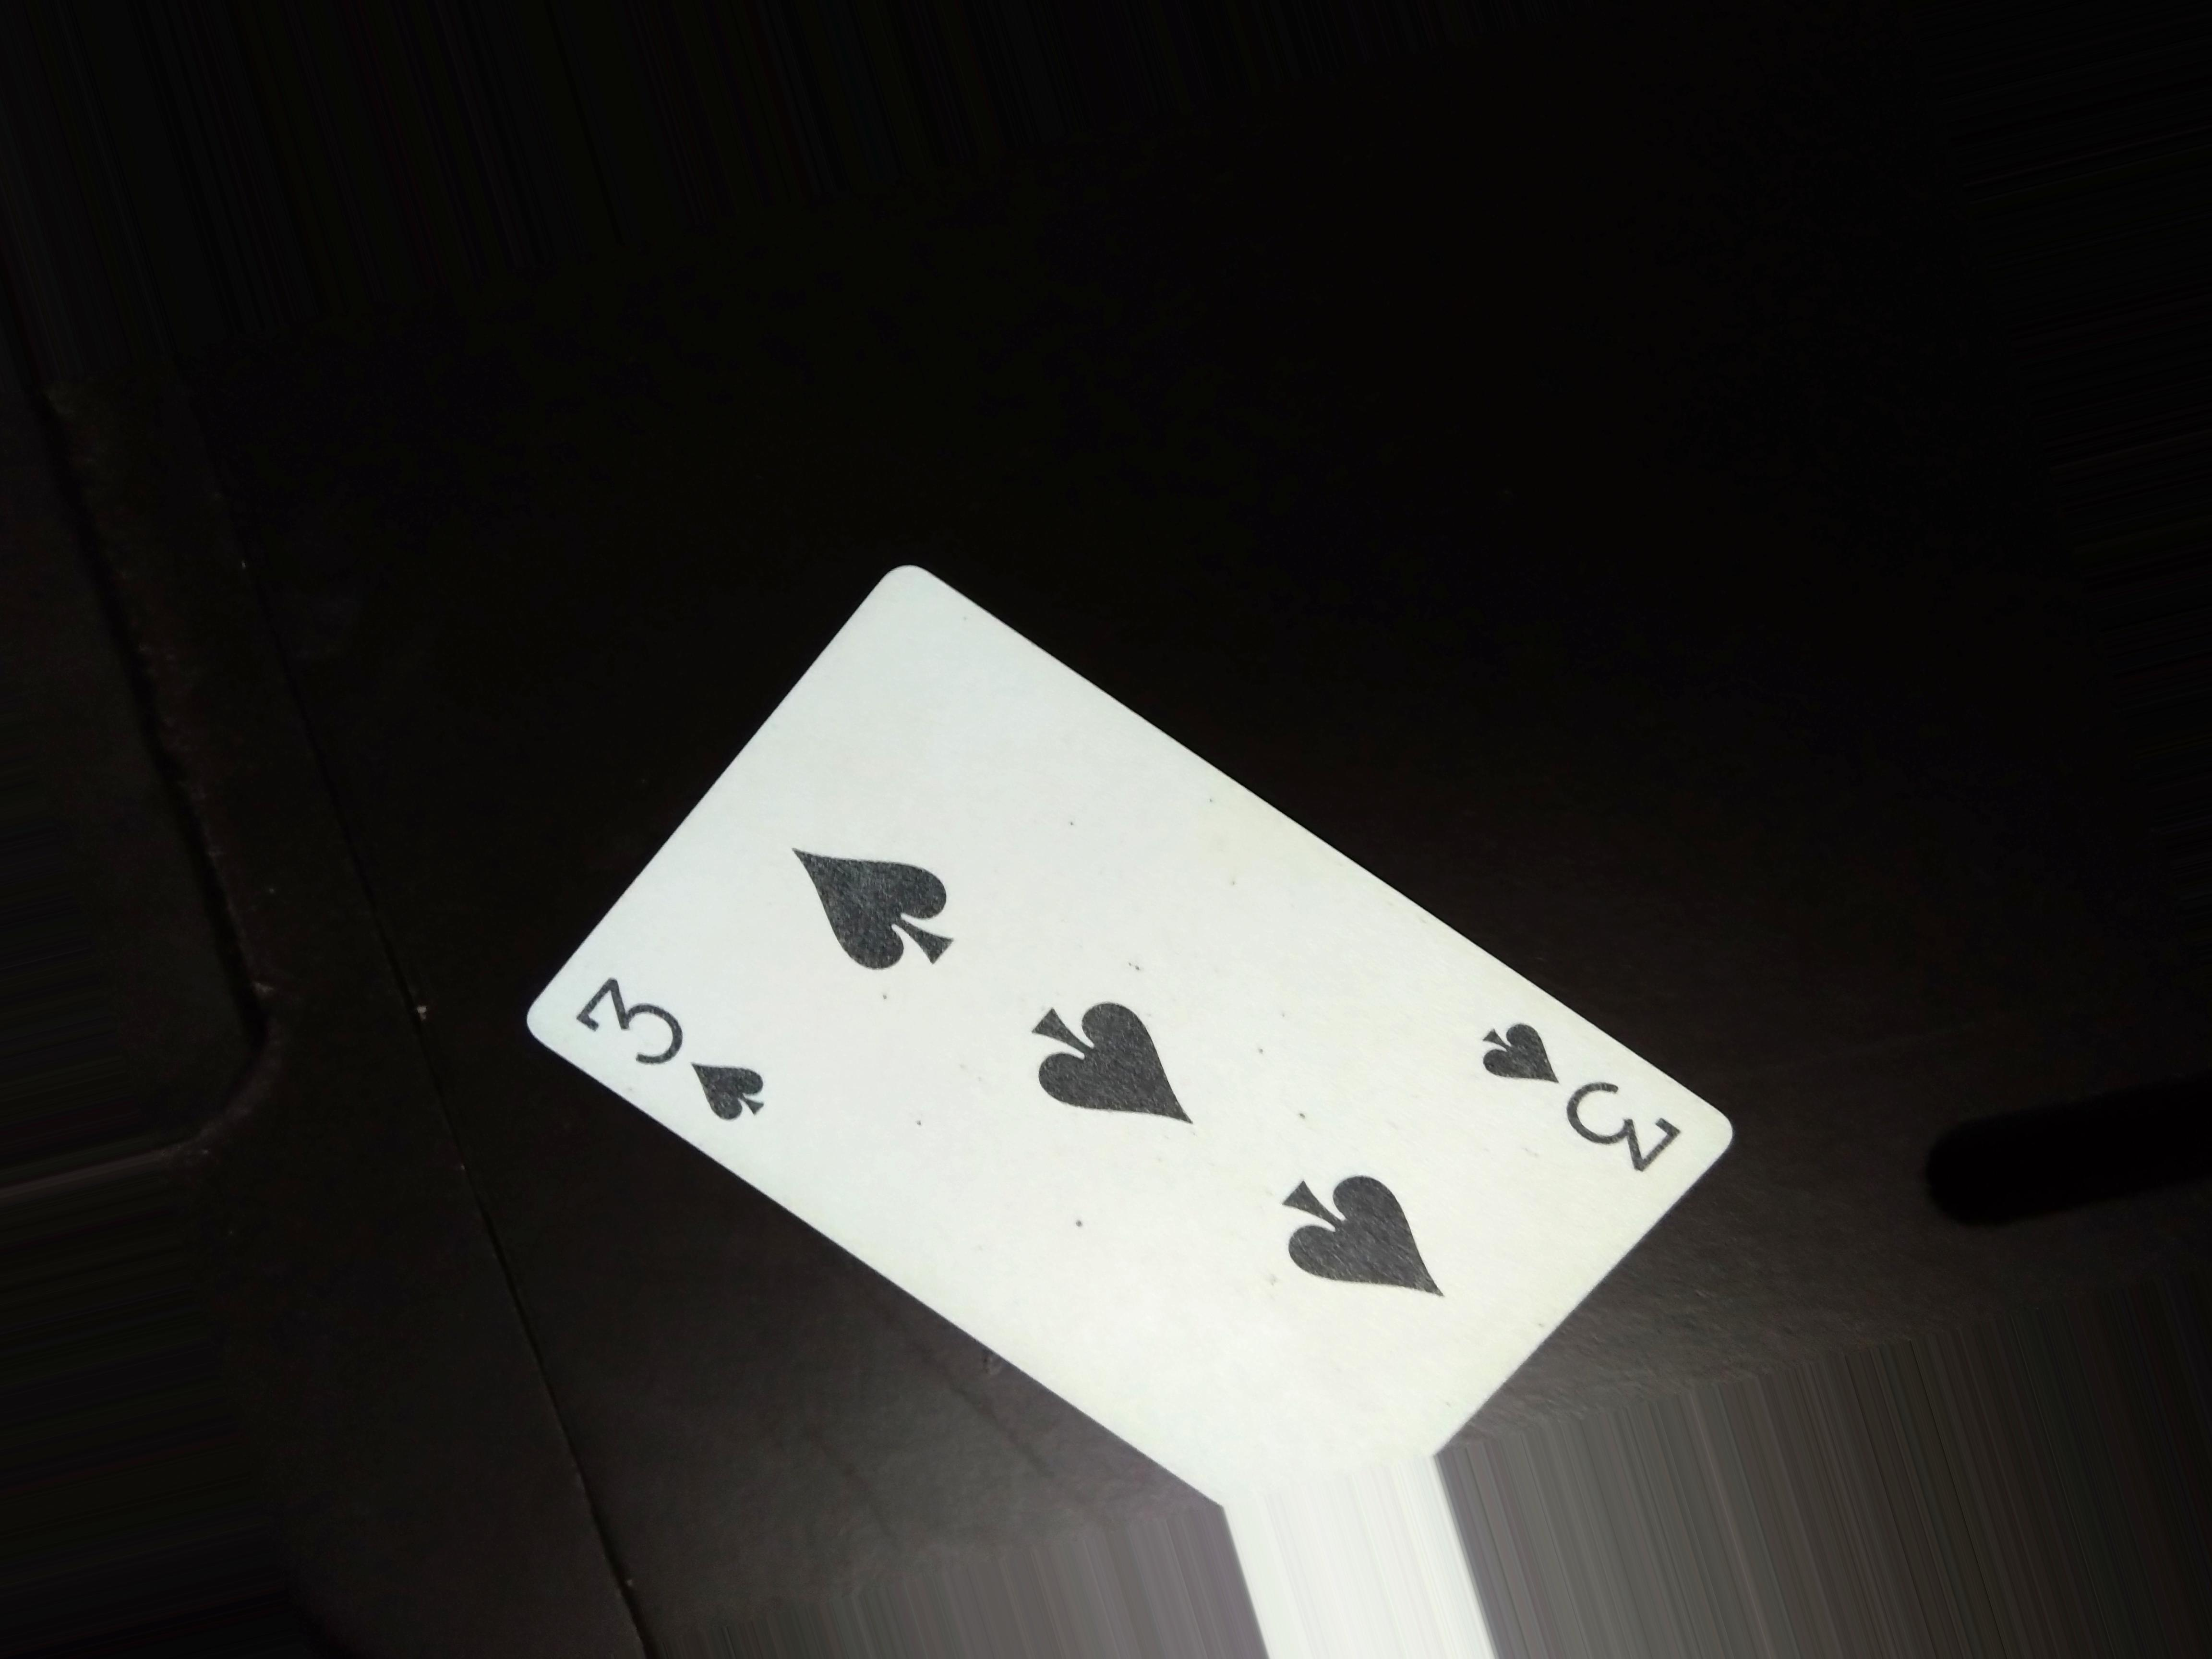3S: (578, 979, 780, 1136)
